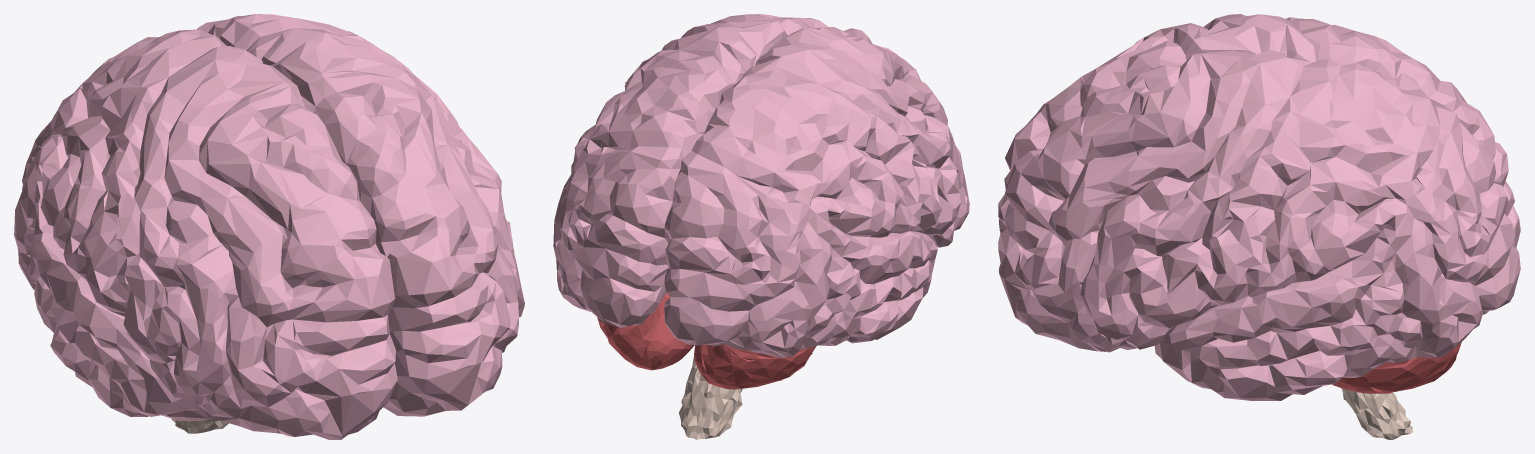
The model's file is brain_low_poly.glb.
The picture shows the model from 3 angles, left to right: view 1: azimuth 30°, elevation 25°; view 2: azimuth 150°, elevation 25°; view 3: azimuth 270°, elevation 25°; orthographic projection. The views are drawn at different scales.
Visible parts, largest first — view 1: Brain, medulla; view 2: Brain, cerebellum, medulla; view 3: Brain, cerebellum, medulla.
Boxes of the visible parts, x1,y1,x2,y2 form: Brain: (14, 14, 524, 439); medulla: (171, 418, 228, 433); Brain: (553, 14, 969, 357); cerebellum: (597, 293, 816, 389); medulla: (679, 356, 742, 439); Brain: (998, 14, 1520, 400); cerebellum: (1332, 342, 1461, 393); medulla: (1341, 388, 1412, 439).
Bounding box in the file's own units: 0.1388 × 0.1451 × 0.1754.
